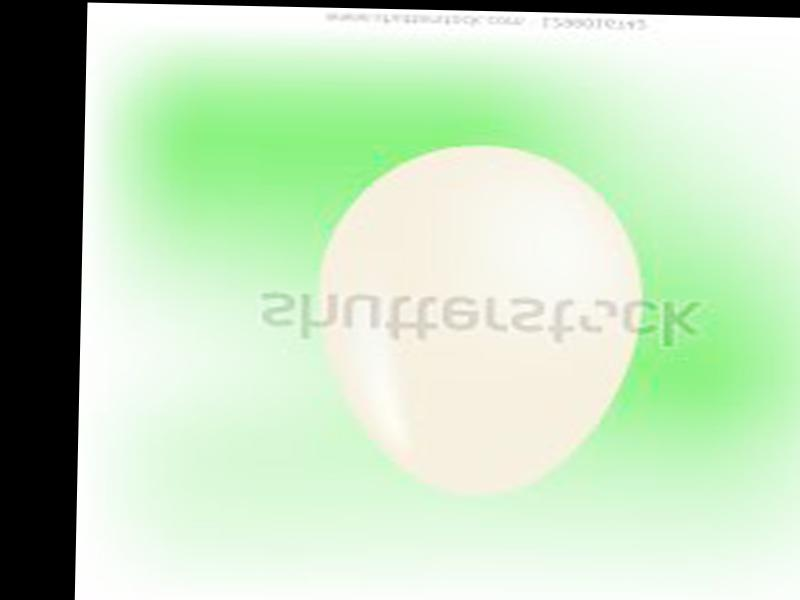Eggs: (316, 143, 646, 498)
